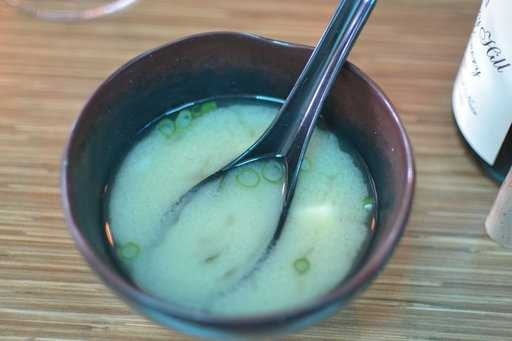soup: (68, 41, 410, 314)
